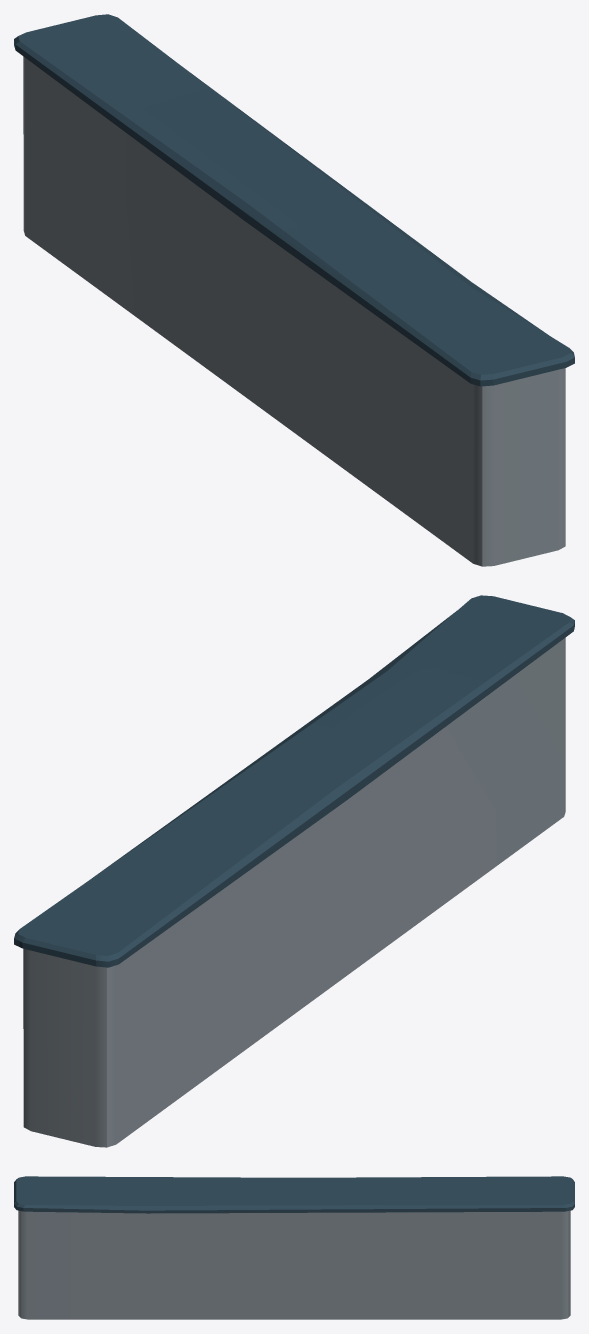
File: SM_Prop_Rail_01.glb
The picture shows the model from 3 angles, top to bottom: view 1: azimuth 30°, elevation 25°; view 2: azimuth 150°, elevation 25°; view 3: azimuth 270°, elevation 25°; orthographic projection. The views are drawn at different scales.
Parts seen in each view (by area): view 1: SM_Prop_Rail_01; view 2: SM_Prop_Rail_01; view 3: SM_Prop_Rail_01.
Boxes of the visible parts, x1,y1,x2,y2 form: SM_Prop_Rail_01: (14, 14, 574, 566); SM_Prop_Rail_01: (14, 595, 574, 1147); SM_Prop_Rail_01: (14, 1176, 574, 1319).
Size of the model in its own units: 0.5307 by 0.9519 by 4.19.
1 material, 1 textured.
